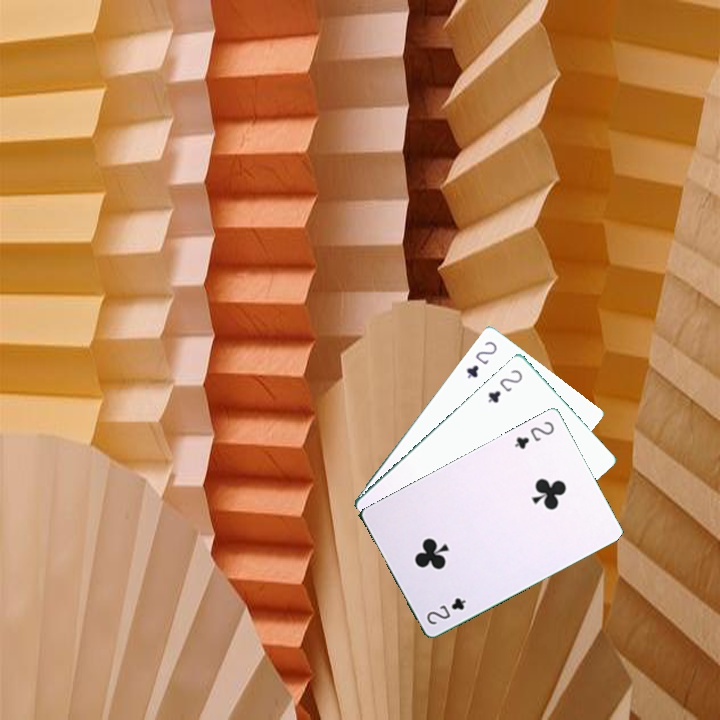2c: (484, 365, 525, 406), (462, 337, 500, 381), (510, 417, 557, 452), (422, 593, 469, 627)
